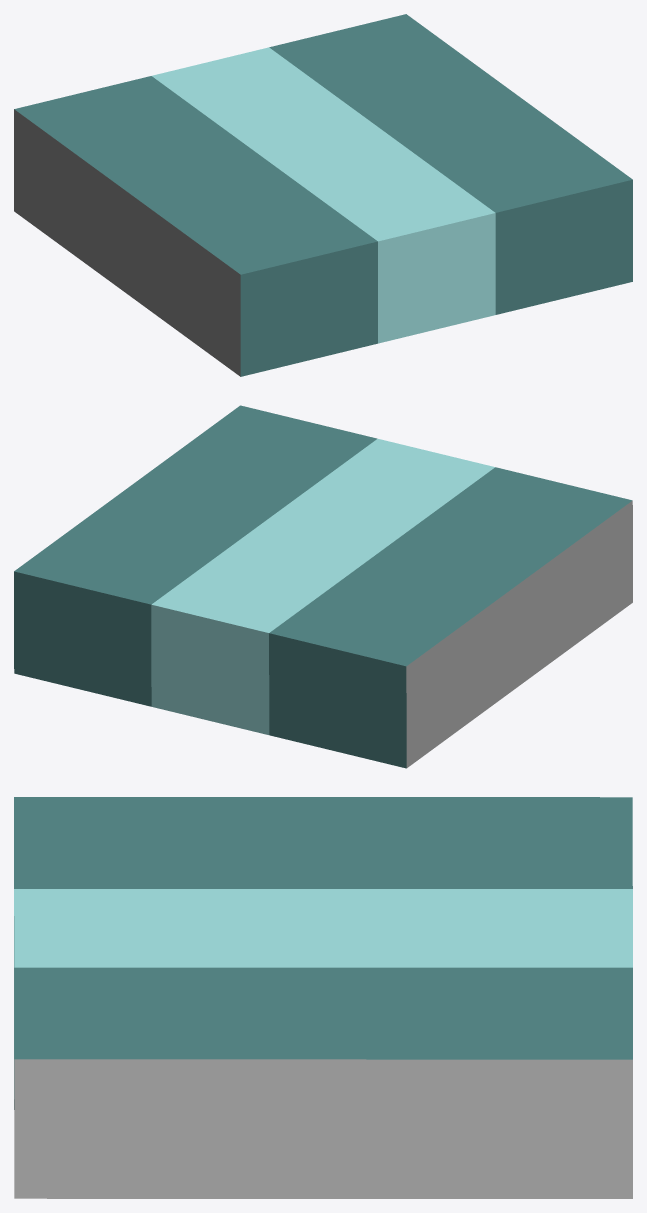
The model's file is sol_1_repar.fbx.
3 views of the same model, one above another, from view 1: azimuth 30°, elevation 25°; view 2: azimuth 150°, elevation 25°; view 3: azimuth 270°, elevation 25° (orthographic). The views are drawn at different scales.
Parts seen in each view (by area): view 1: pasted__pCube76; view 2: pasted__pCube76; view 3: pasted__pCube76.
Boxes of the visible parts, x1,y1,x2,y2 form: pasted__pCube76: (14,14,632,376); pasted__pCube76: (14,405,632,768); pasted__pCube76: (14,797,632,1198).
Bounding box in the file's own units: 1 × 0.2507 × 1.
